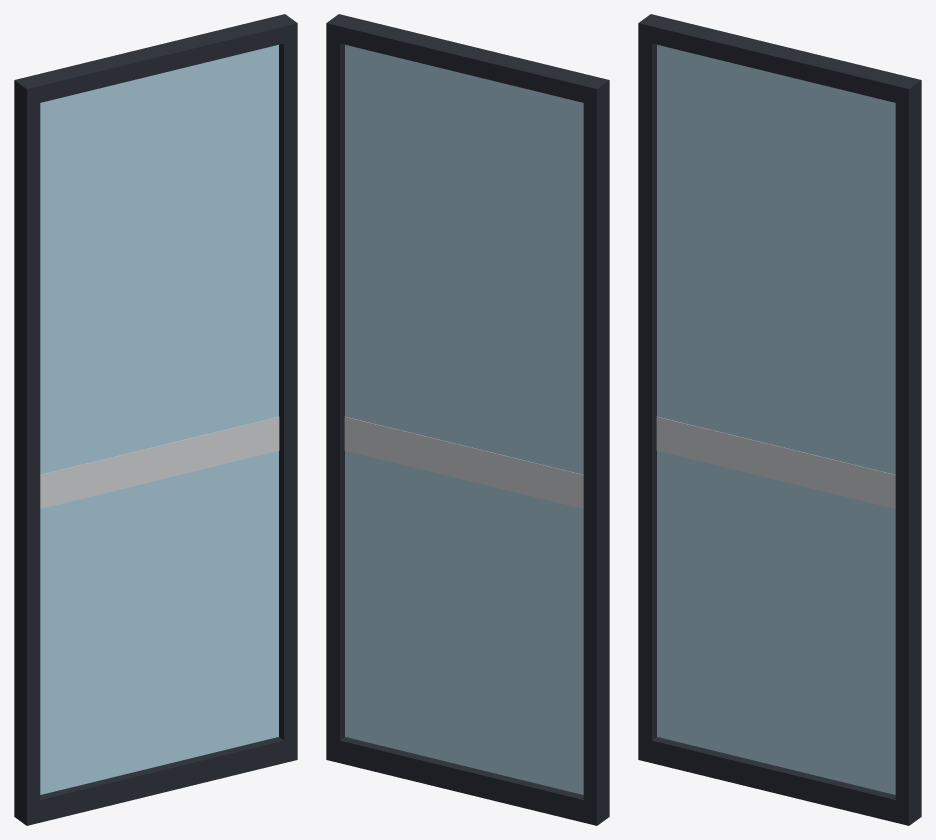
Rendered from Glass_1m.fbx.
The picture shows the model from 3 angles, left to right: view 1: azimuth 30°, elevation 25°; view 2: azimuth 150°, elevation 25°; view 3: azimuth 330°, elevation 25°; orthographic projection.
Parts seen in each view (by area): view 1: Glass.001, Post, Post.001, Band, TopRail, BottomRail; view 2: Glass.001, Post, Post.001, Band, TopRail, BottomRail; view 3: Glass.001, Post.001, Post, Band, TopRail, BottomRail.
Boxes of the visible parts, x1,y1,x2,y2 form: Glass.001: (40, 44, 278, 794); Post: (14, 77, 40, 825); Post.001: (279, 23, 297, 762); Band: (40, 416, 279, 508); TopRail: (14, 14, 297, 105); BottomRail: (14, 737, 296, 825); Glass.001: (345, 44, 583, 794); Post: (583, 78, 609, 825); Post.001: (326, 23, 344, 762); Band: (344, 416, 583, 508); TopRail: (326, 14, 609, 105); BottomRail: (326, 737, 609, 825); Glass.001: (657, 44, 895, 794); Post.001: (895, 78, 921, 825); Post: (638, 23, 656, 762); Band: (656, 416, 895, 508); TopRail: (638, 14, 921, 105); BottomRail: (638, 737, 921, 825).
Size of the model in its own units: 1 by 2.6 by 0.08.
